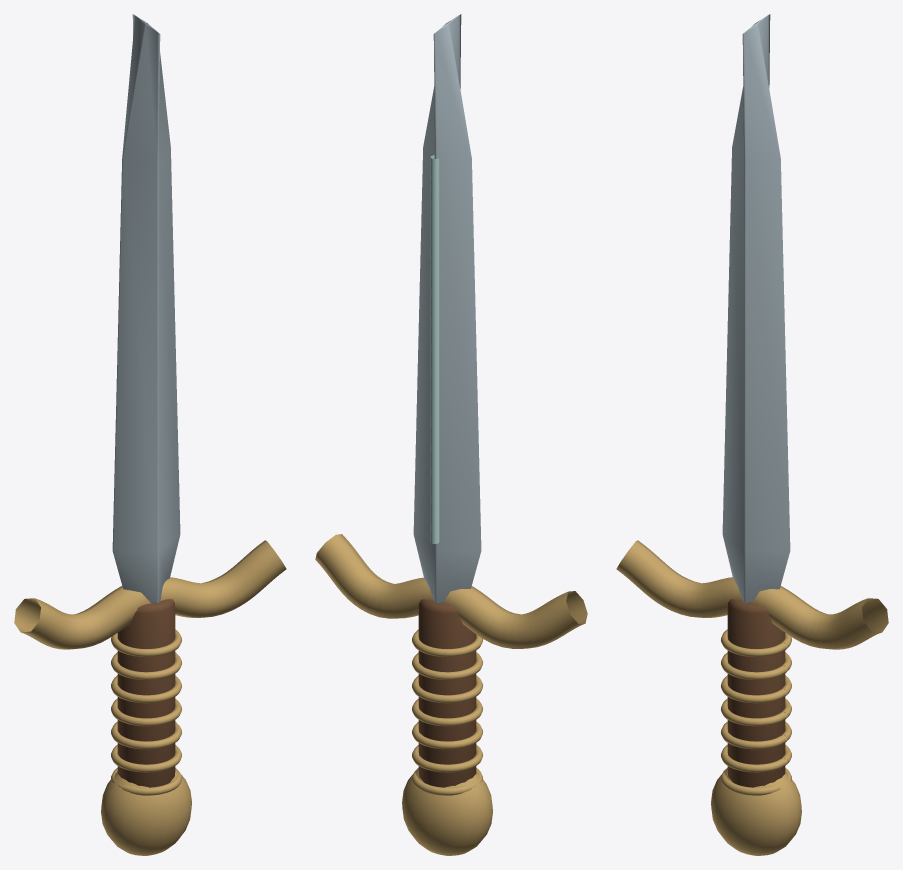
Rendered from moonleaf_saber.glb.
3 renders of one model, left to right at view 1: azimuth 30°, elevation 25°; view 2: azimuth 150°, elevation 25°; view 3: azimuth 330°, elevation 25°, orthographic.
Parts seen in each view (by area): view 1: Tempered diamond edge, Swept quillons, Leather grip, Pommel, Bound grip.001, Bound grip.002, Bound grip.003, Bound grip.004, Bound grip.005, Bound grip.006, Bound grip; view 2: Tempered diamond edge, Swept quillons, Leather grip, Pommel, Inlaid fuller, Bound grip.001, Bound grip.002, Bound grip.003, Bound grip.004, Bound grip.005, Bound grip.006, Bound grip; view 3: Tempered diamond edge, Swept quillons, Leather grip, Pommel, Bound grip.001, Bound grip.002, Bound grip.003, Bound grip.004, Bound grip.005, Bound grip.006, Bound grip.
Boxes of the visible parts, <box> form: Tempered diamond edge: <box>112,14,180,603</box>; Swept quillons: <box>14,540,286,649</box>; Leather grip: <box>117,599,175,787</box>; Pommel: <box>101,768,191,855</box>; Bound grip.001: <box>111,745,181,772</box>; Bound grip.002: <box>111,722,181,749</box>; Bound grip.003: <box>111,698,181,726</box>; Bound grip.004: <box>111,675,181,703</box>; Bound grip.005: <box>111,652,181,679</box>; Bound grip.006: <box>111,629,181,656</box>; Bound grip: <box>111,768,182,795</box>; Tempered diamond edge: <box>413,14,481,603</box>; Swept quillons: <box>315,534,587,648</box>; Leather grip: <box>418,599,476,787</box>; Pommel: <box>402,768,492,855</box>; Inlaid fuller: <box>430,155,439,543</box>; Bound grip.001: <box>412,745,482,772</box>; Bound grip.002: <box>412,722,482,749</box>; Bound grip.003: <box>412,698,482,726</box>; Bound grip.004: <box>412,675,482,703</box>; Bound grip.005: <box>412,652,482,679</box>; Bound grip.006: <box>412,629,482,656</box>; Bound grip: <box>412,768,482,795</box>; Tempered diamond edge: <box>722,14,790,603</box>; Swept quillons: <box>616,540,888,649</box>; Leather grip: <box>727,599,785,787</box>; Pommel: <box>711,768,801,855</box>; Bound grip.001: <box>721,745,791,772</box>; Bound grip.002: <box>721,722,791,749</box>; Bound grip.003: <box>721,698,791,726</box>; Bound grip.004: <box>721,675,791,703</box>; Bound grip.005: <box>721,652,791,679</box>; Bound grip.006: <box>721,629,791,656</box>; Bound grip: <box>720,768,791,795</box>.
Bounding box in the file's own units: 0.5744 × 1.72 × 0.15.
